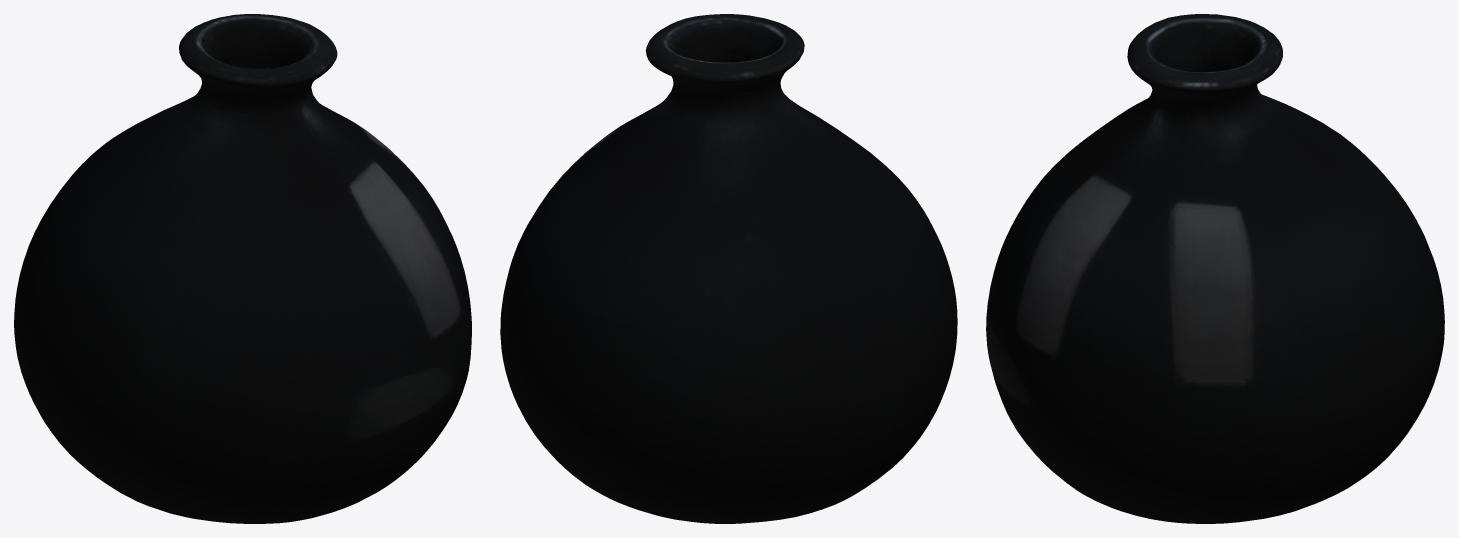
Rendered from vase3.obj.
3 views of the same model, side by side, from view 1: azimuth 30°, elevation 25°; view 2: azimuth 150°, elevation 25°; view 3: azimuth 270°, elevation 25° (orthographic).
Visible parts, largest first — view 1: geometry_0; view 2: geometry_0; view 3: geometry_0.
Boxes of the visible parts, x1=… form: geometry_0: x1=14, y1=14, x2=471, y2=523; geometry_0: x1=500, y1=14, x2=957, y2=523; geometry_0: x1=986, y1=14, x2=1444, y2=523.
Bounding box in the file's own units: 98.56 × 106 × 98.56.
